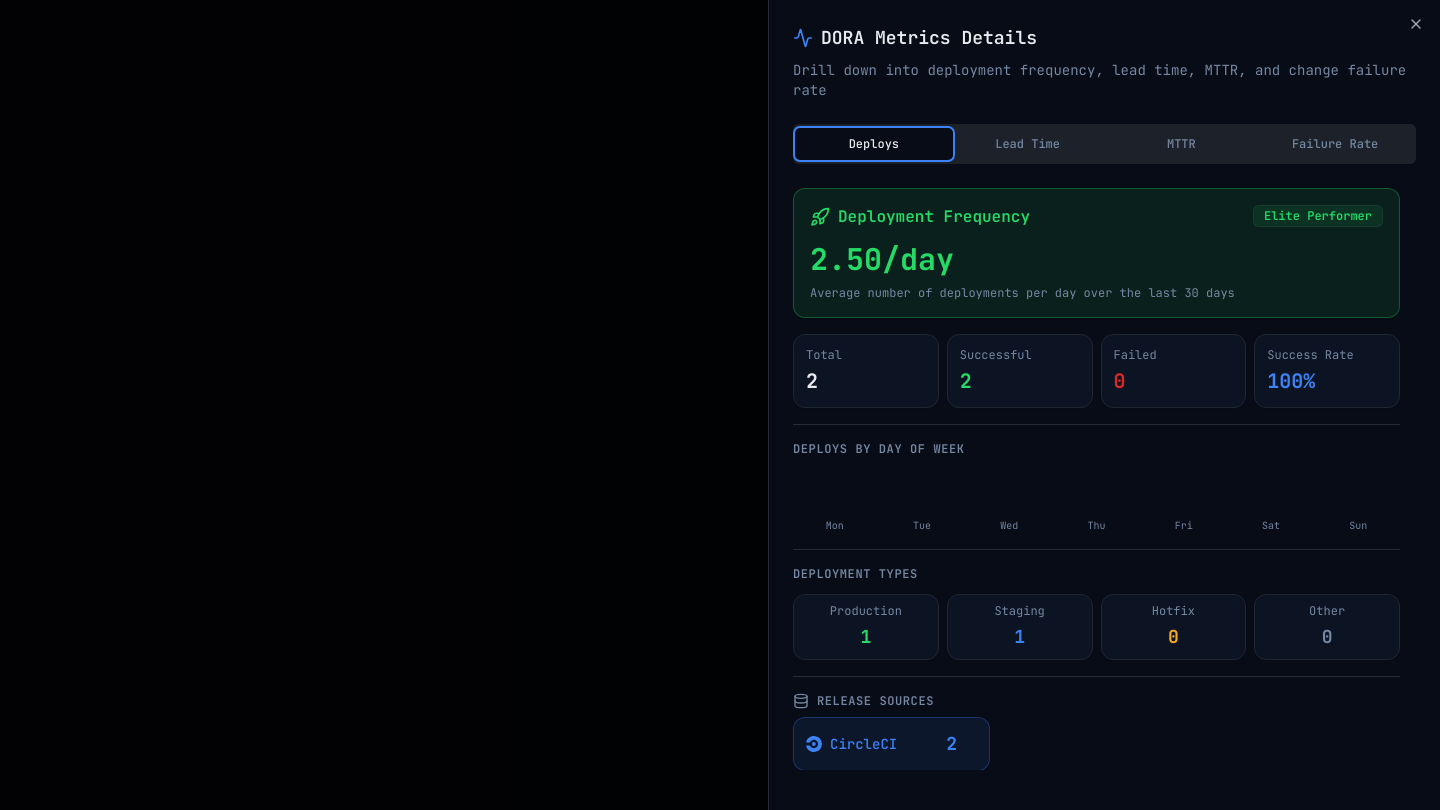
Test: DeploymentFrequencyDetail - Filtering › Deployment type filtering › should filter by production type when clicking Production card
Click the button "Production 1".
click(866, 627)  # box [793,594,939,660]
(page scrolled)
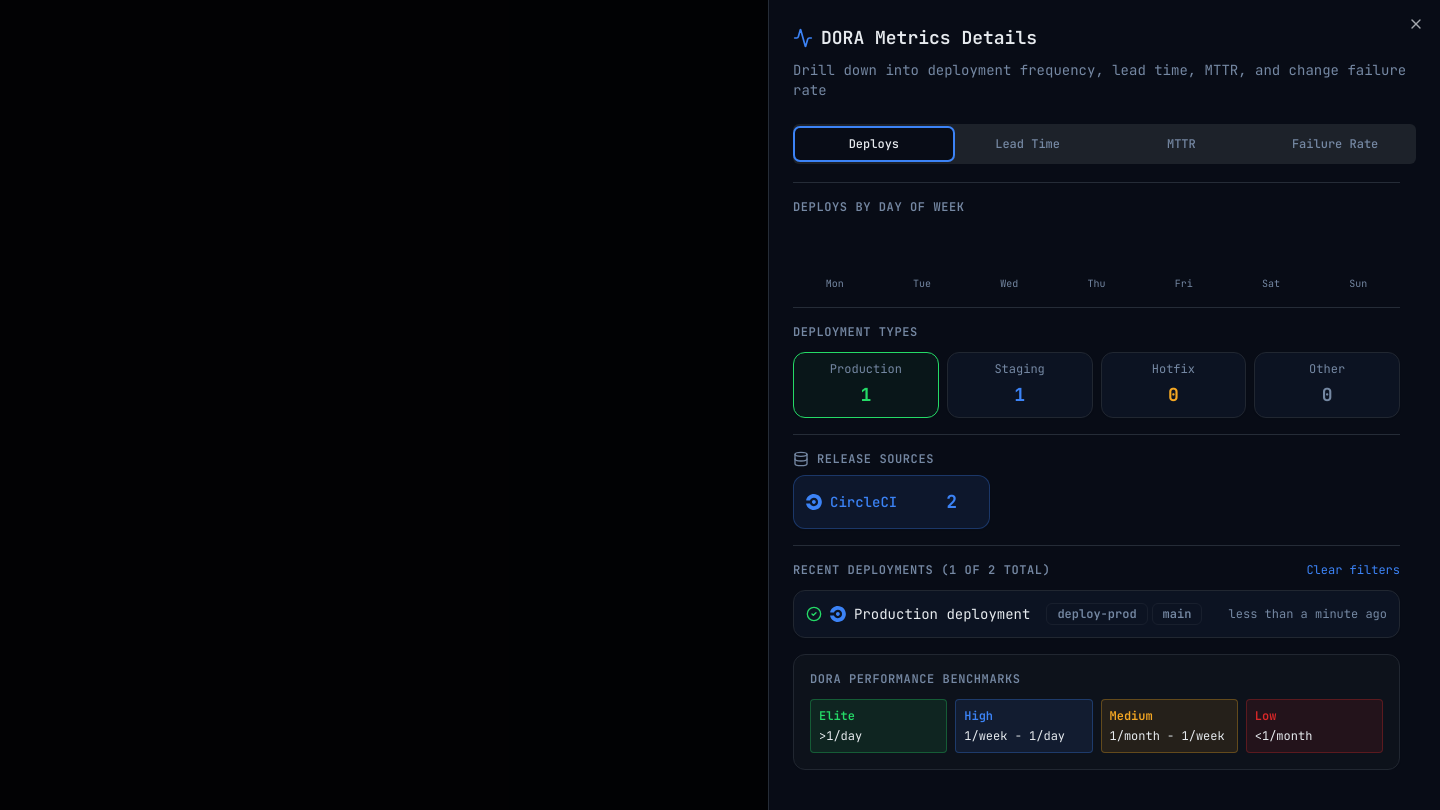
Result: the text "Production deployment" is shown at [854,604,1030,624]
